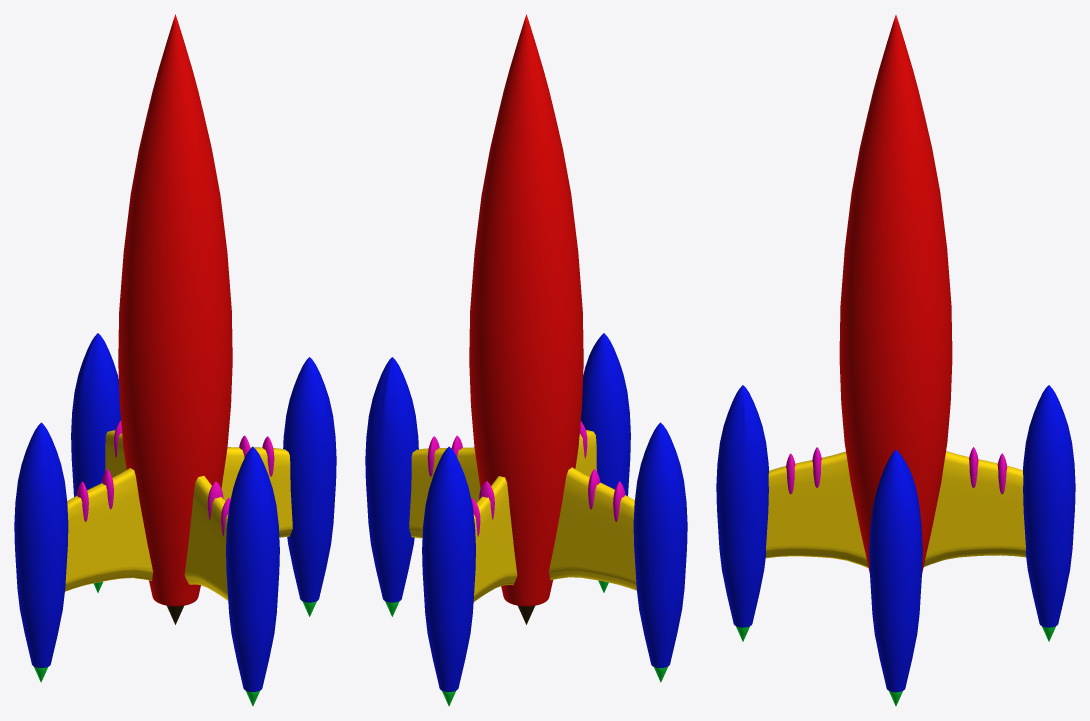
The model's file is Rocket ship.fbx.
3 renders of one model, left to right at view 1: azimuth 30°, elevation 25°; view 2: azimuth 150°, elevation 25°; view 3: azimuth 270°, elevation 25°, orthographic.
Parts seen in each view (by area): view 1: Cone001; view 2: Cone001; view 3: Cone001.
Part boxes in pixels (x1,y1,x2,y2): Cone001: (14,14,336,706); Cone001: (365,14,687,706); Cone001: (716,15,1075,706).
Size of the model in its own units: 150 by 290 by 150.
